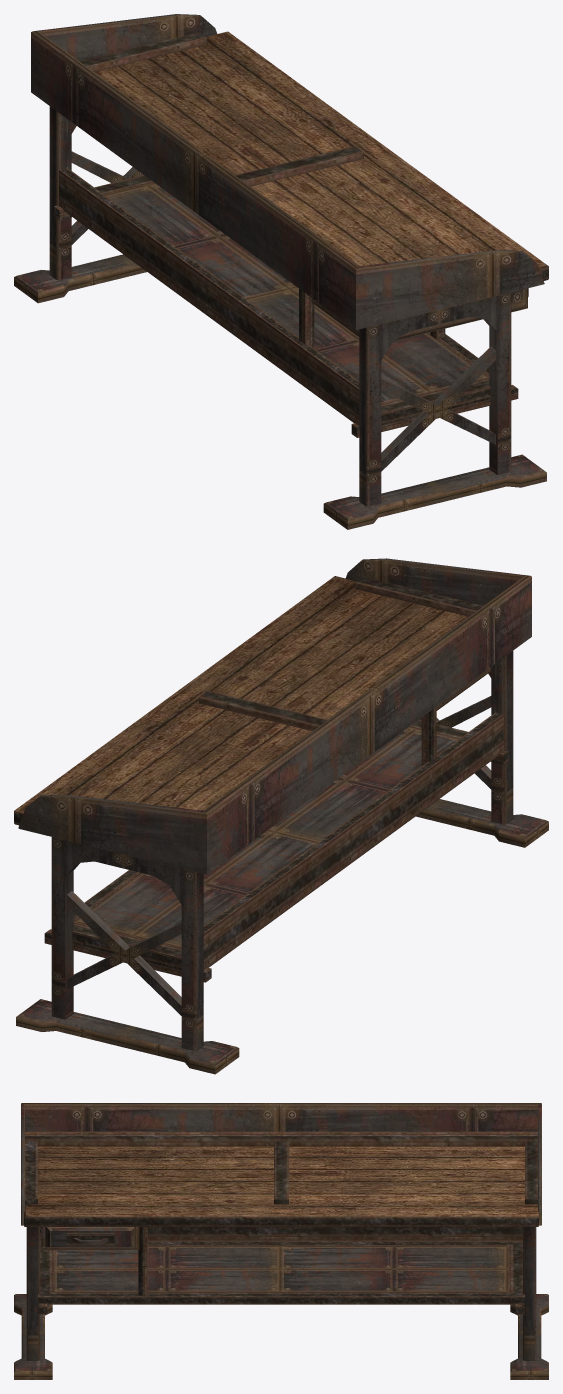
File: o_mdl_env_propFurnitureCounterMetalA-transformed.glb
The picture shows the model from 3 angles, top to bottom: view 1: azimuth 30°, elevation 25°; view 2: azimuth 150°, elevation 25°; view 3: azimuth 270°, elevation 25°; orthographic projection. The views are drawn at different scales.
Parts seen in each view (by area): view 1: default; view 2: default; view 3: default.
Boxes of the visible parts, x1=… form: default: x1=14, y1=14, x2=548, y2=529; default: x1=14, y1=558, x2=548, y2=1074; default: x1=14, y1=1103, x2=548, y2=1379.
Bounding box in the file's own units: 0.9697 × 1.1 × 2.62.
3 materials, 3 textured.
